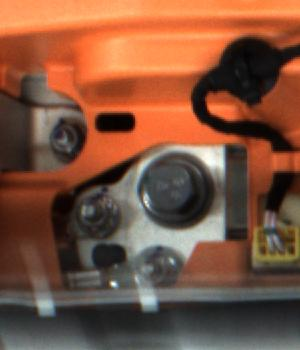nut_b: (135, 145, 215, 230)
